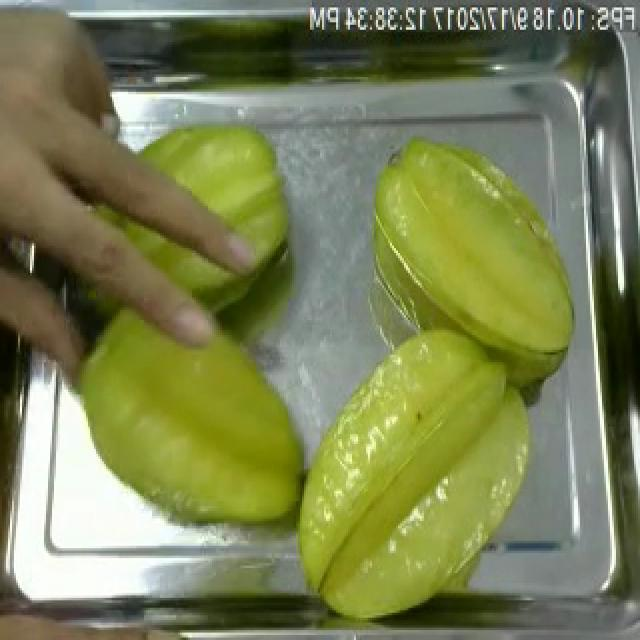fruit: (278, 318, 548, 632), (66, 282, 322, 538), (362, 127, 584, 377), (0, 2, 132, 288)
